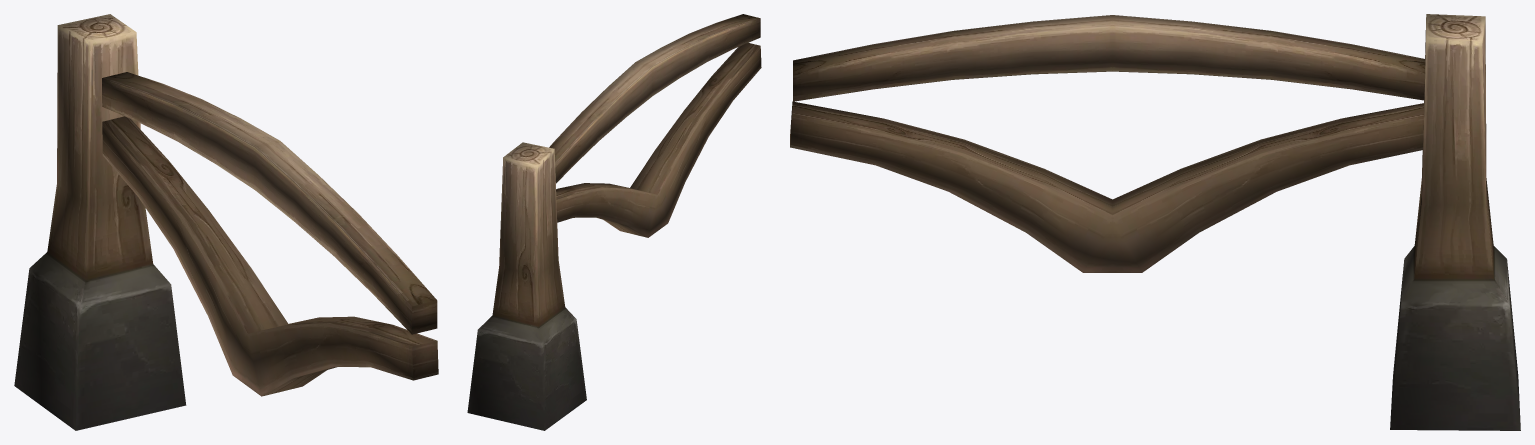
3 renders of one model, left to right at view 1: azimuth 30°, elevation 25°; view 2: azimuth 150°, elevation 25°; view 3: azimuth 270°, elevation 25°, orthographic. The views are drawn at different scales.
Size of the model in its own units: 0.7602 by 2.45 by 4.25.
1 material, 1 textured.
